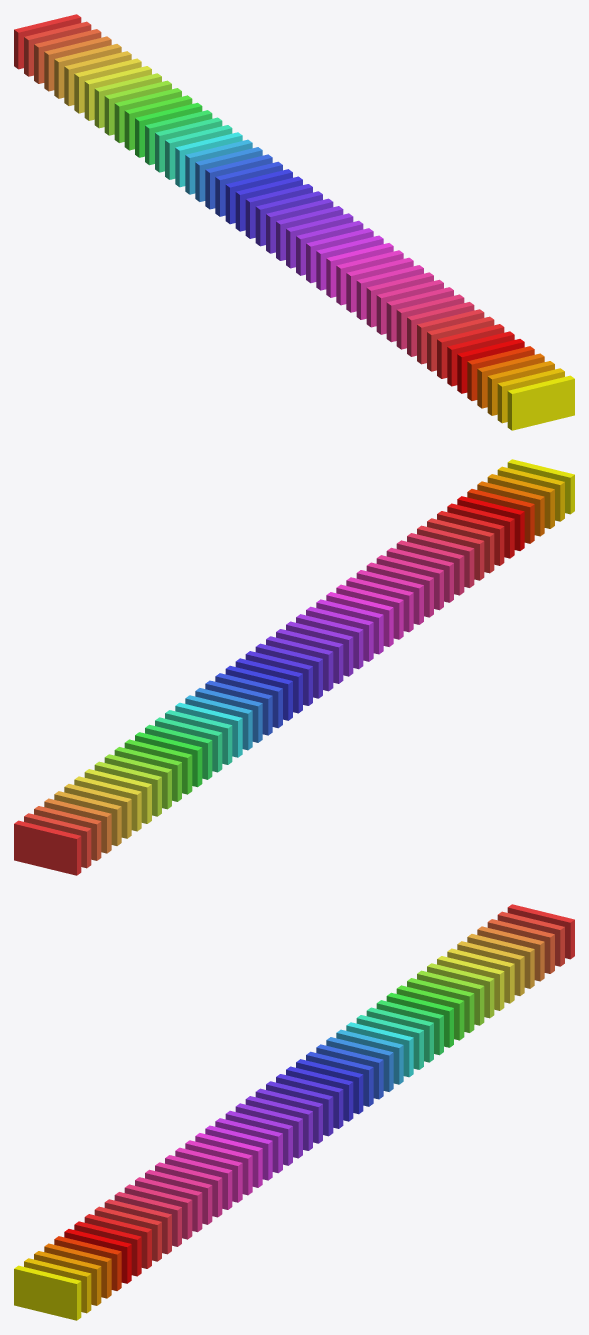
Rendered from EndingBoard (1).fbx.
3 renders of one model, top to bottom at view 1: azimuth 30°, elevation 25°; view 2: azimuth 150°, elevation 25°; view 3: azimuth 330°, elevation 25°, orthographic.
Parts seen in each view (by area): view 1: Ending44, Ending12, Ending40, Ending9, Ending28, Ending47, Ending2, Ending16, Ending42, Ending8, Ending5, Ending21 (+38 smaller); view 2: Ending1, Ending28, Ending8, Ending15, Ending12, Ending25, Ending7, Ending48, Ending39, Ending9, Ending20, Ending18 (+38 smaller); view 3: Ending44, Ending12, Ending40, Ending9, Ending28, Ending47, Ending2, Ending16, Ending42, Ending8, Ending5, Ending21 (+38 smaller).
Part boxes in pixels (bbox=[...]): Ending44: bbox=[507, 375, 574, 430]; Ending12: bbox=[124, 95, 192, 150]; Ending40: bbox=[477, 353, 544, 408]; Ending9: bbox=[74, 58, 141, 113]; Ending28: bbox=[396, 294, 464, 349]; Ending47: bbox=[336, 250, 403, 305]; Ending2: bbox=[34, 29, 101, 83]; Ending16: bbox=[175, 132, 242, 187]; Ending42: bbox=[457, 339, 524, 393]; Ending8: bbox=[44, 36, 111, 91]; Ending5: bbox=[54, 44, 121, 98]; Ending21: bbox=[104, 80, 171, 135]; Ending1: bbox=[14, 820, 81, 875]; Ending28: bbox=[396, 540, 464, 595]; Ending8: bbox=[44, 798, 111, 853]; Ending15: bbox=[185, 695, 252, 750]; Ending12: bbox=[124, 739, 192, 794]; Ending25: bbox=[447, 503, 514, 558]; Ending7: bbox=[64, 784, 131, 838]; Ending48: bbox=[346, 577, 413, 632]; Ending39: bbox=[487, 474, 554, 528]; Ending9: bbox=[74, 776, 141, 831]; Ending20: bbox=[205, 680, 272, 735]; Ending18: bbox=[155, 717, 222, 772]; Ending44: bbox=[14, 1265, 81, 1320]; Ending12: bbox=[396, 985, 464, 1040]; Ending40: bbox=[44, 1243, 111, 1298]; Ending9: bbox=[447, 948, 514, 1003]; Ending28: bbox=[124, 1184, 192, 1239]; Ending47: bbox=[185, 1140, 252, 1195]; Ending2: bbox=[487, 919, 554, 973]; Ending16: bbox=[346, 1022, 413, 1077]; Ending42: bbox=[64, 1229, 131, 1283]; Ending8: bbox=[477, 926, 544, 981]; Ending5: bbox=[467, 934, 534, 988]; Ending21: bbox=[417, 970, 484, 1025].
Bounding box in the file's own units: 7.83 × 4.36 × 107.
1 material, 1 textured.
